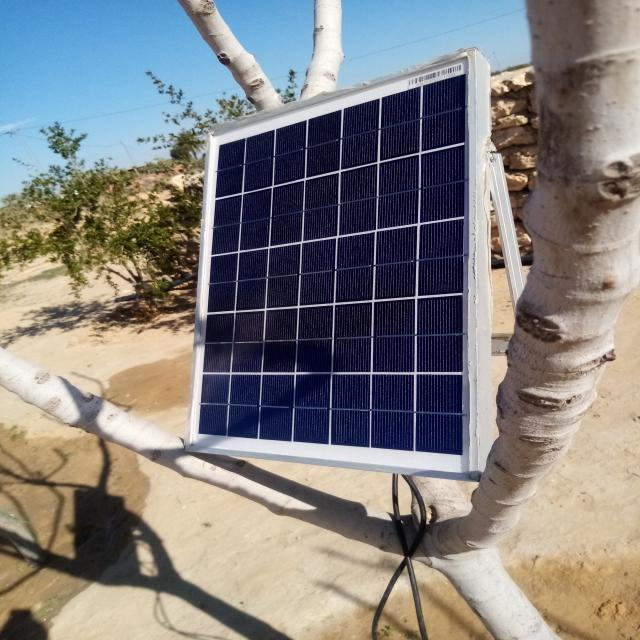Normal Solar Panel: (187, 51, 476, 478)
